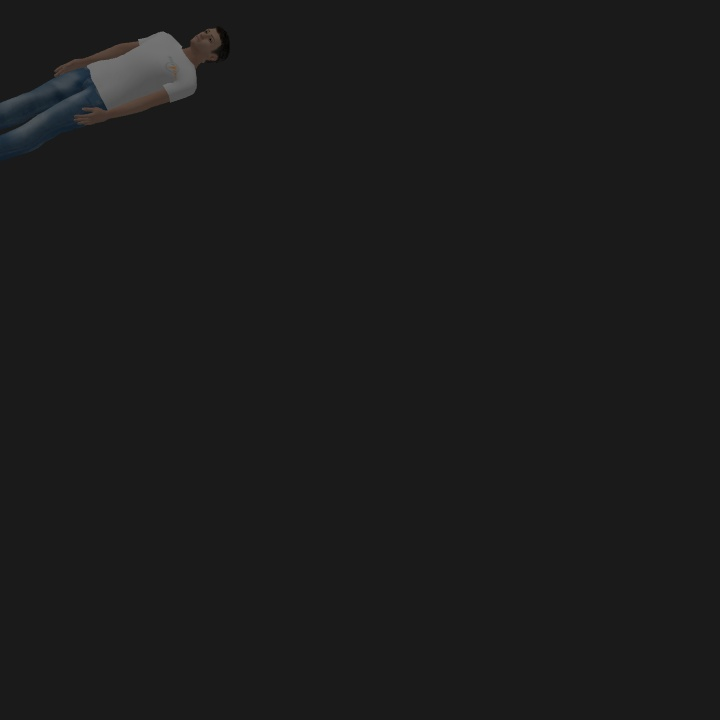victim: (4, 24, 230, 159)
